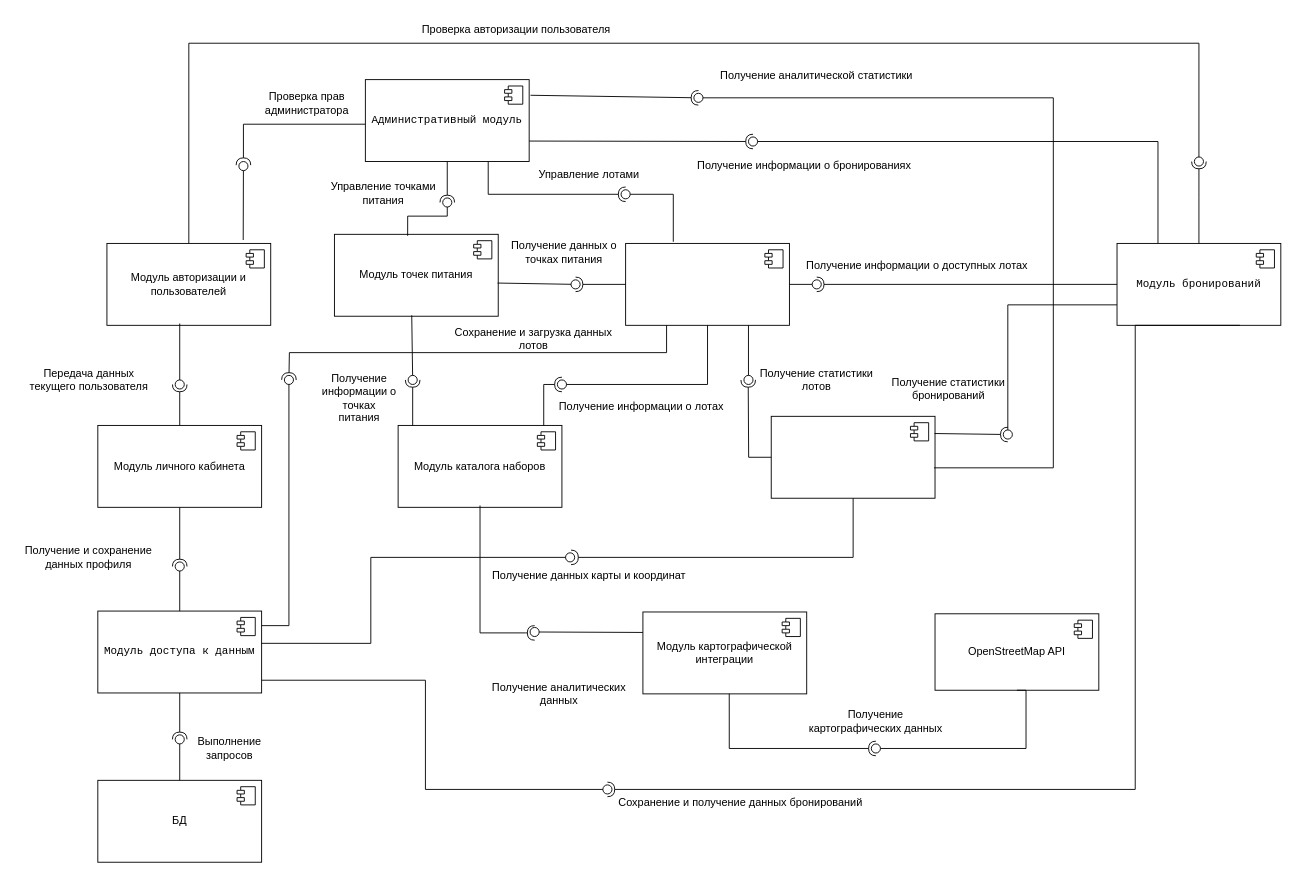
Image size: 1297x878. Some labels were removed from this diagram. Here are the shapes that lost their labels. From the top down, the centre of each, then its label:
(707,284): Модуль лотов
(852,456): Модуль аналитики
